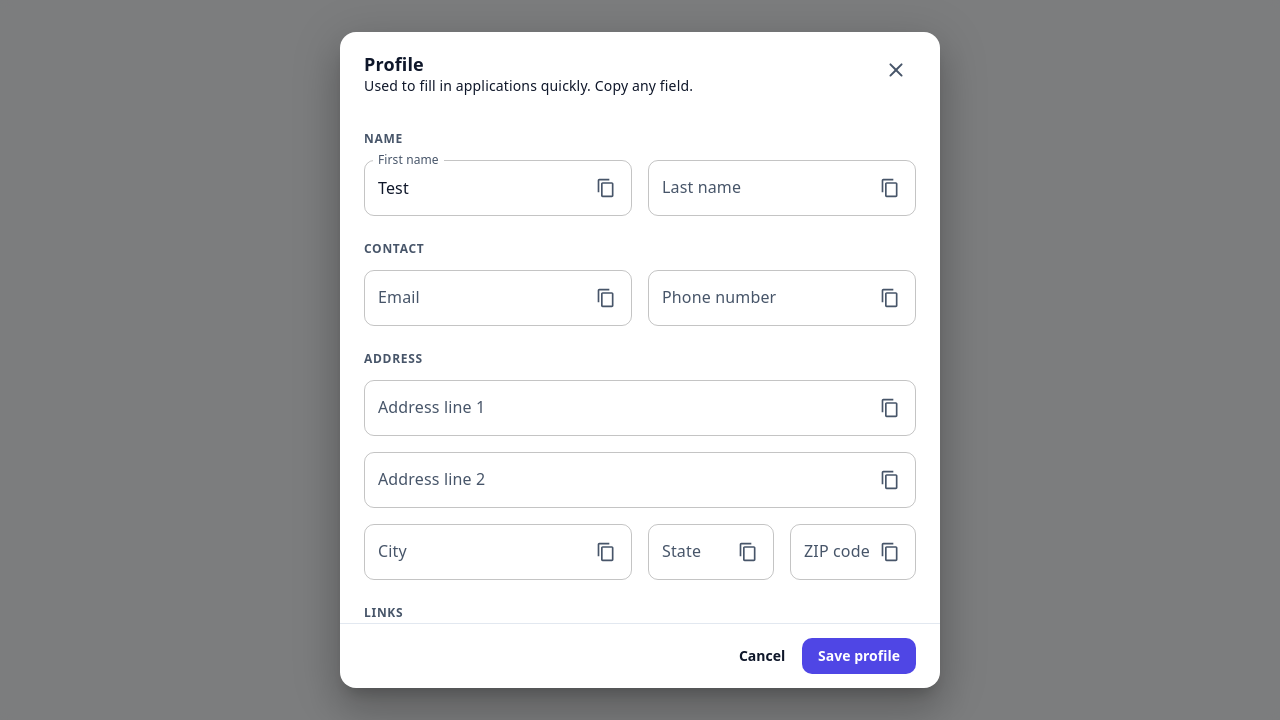
Test: profile save › a failed save shows an error, not success
Click the button "Save profile": (859, 656) [802,638,916,674]
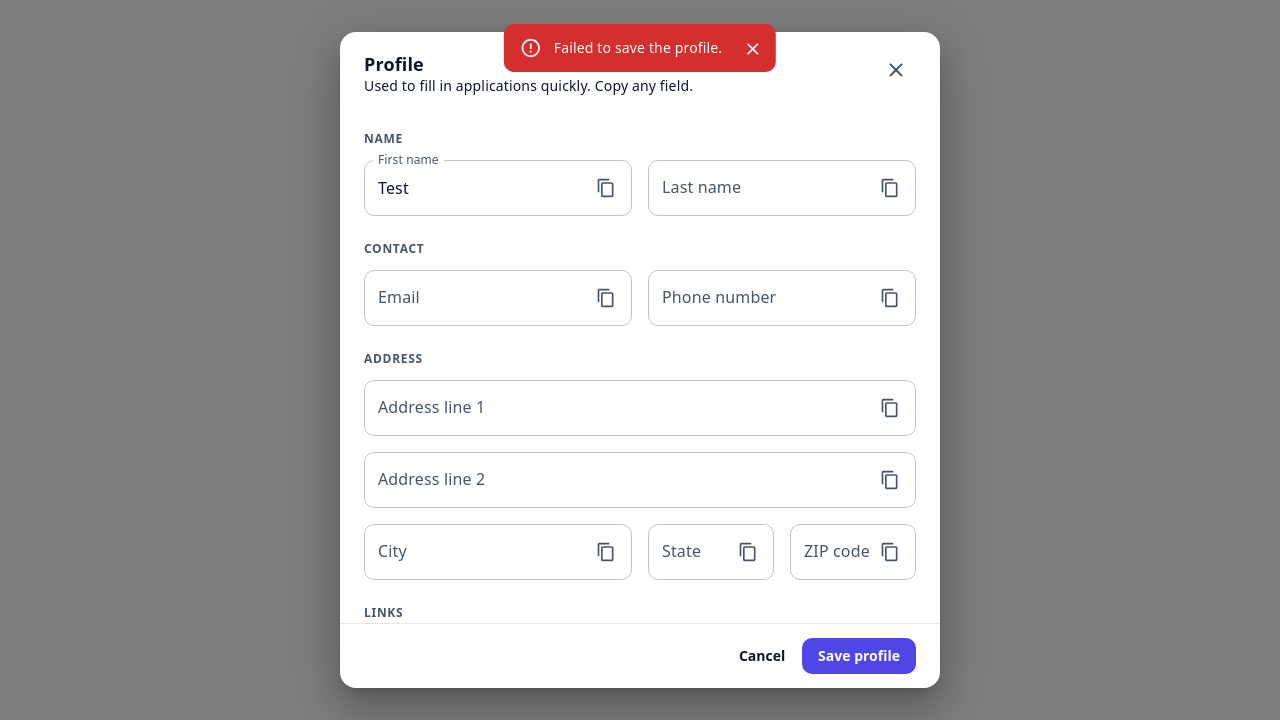
Expected: the text "Failed to save the profile." is shown, [554,38,722,57]
